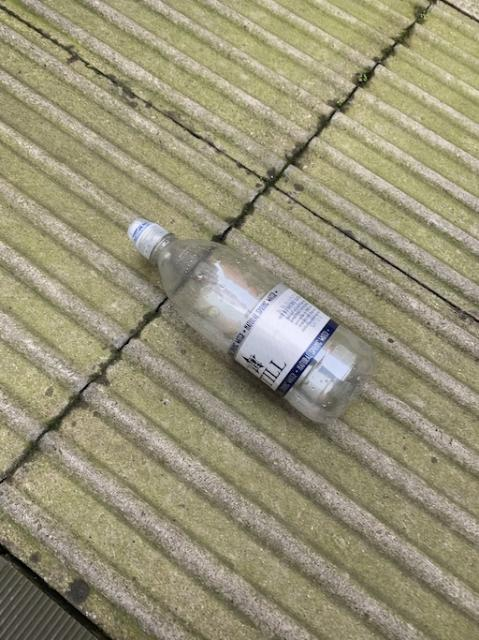plastic: (127, 218, 374, 421)
